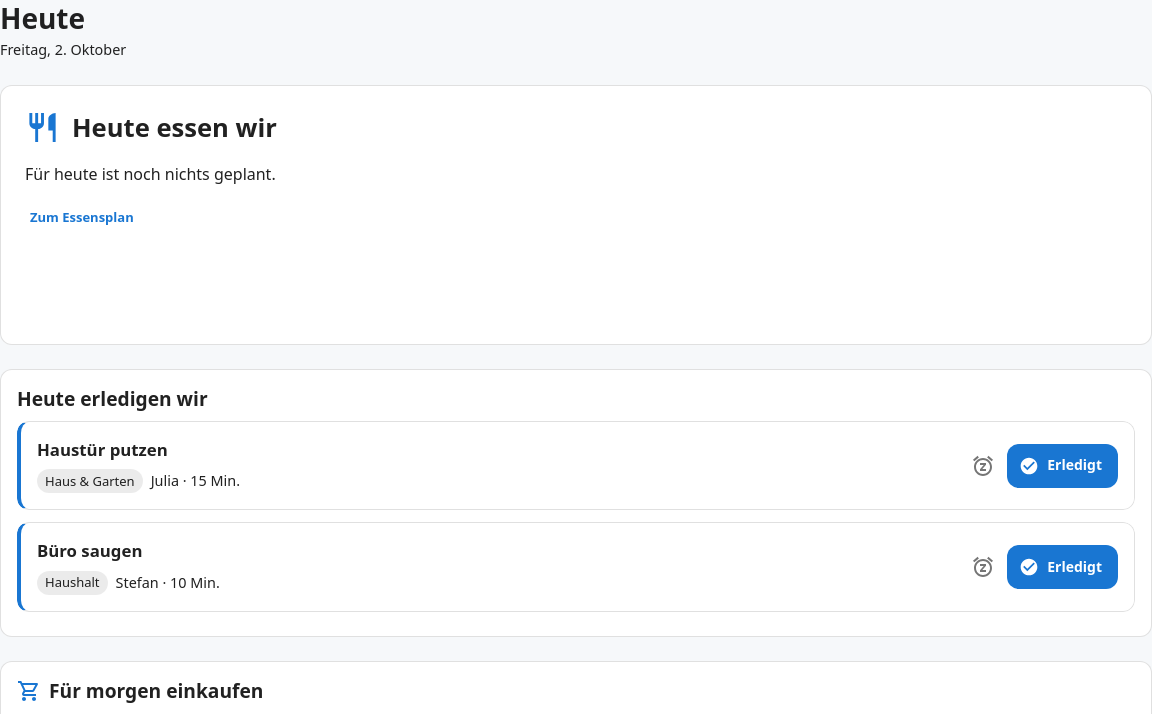
Test: Skip this time › keeps the dialog open and shows the error when skipping fails
Click the button named "„Büro saugen“ verschieben": (983, 567) x1=963 y1=547 x2=1003 y2=587
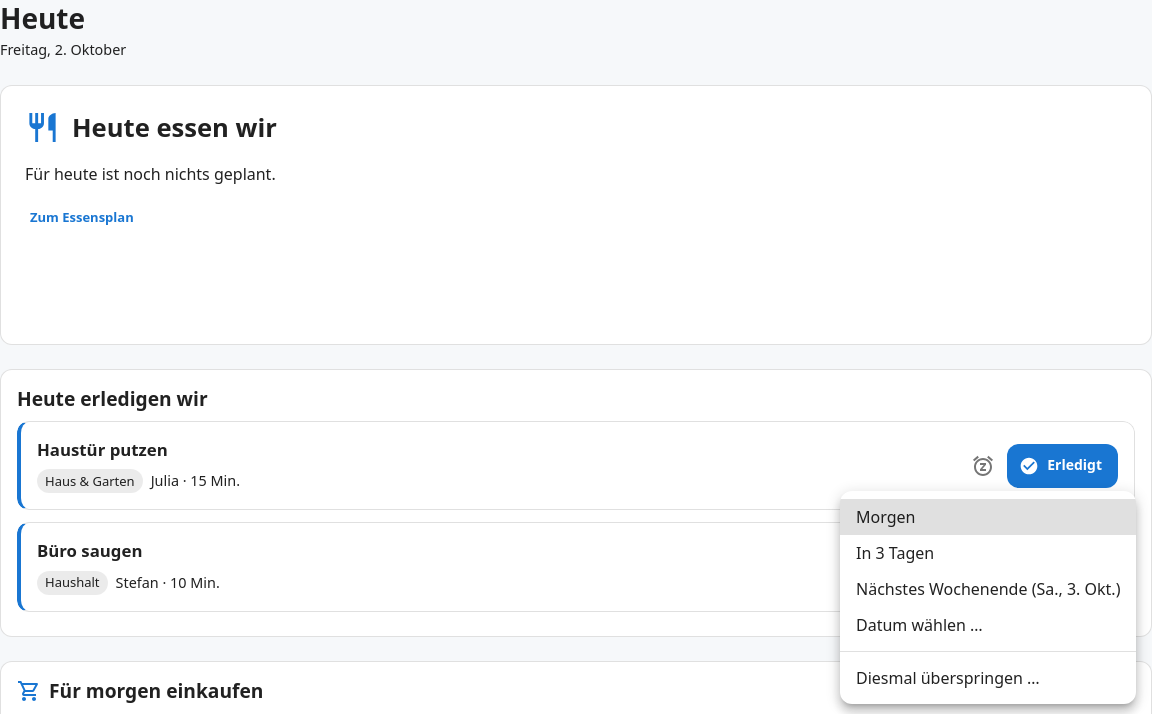
Click the menu item "Diesmal überspringen …": (948, 678) x1=856 y1=667 x2=1040 y2=689
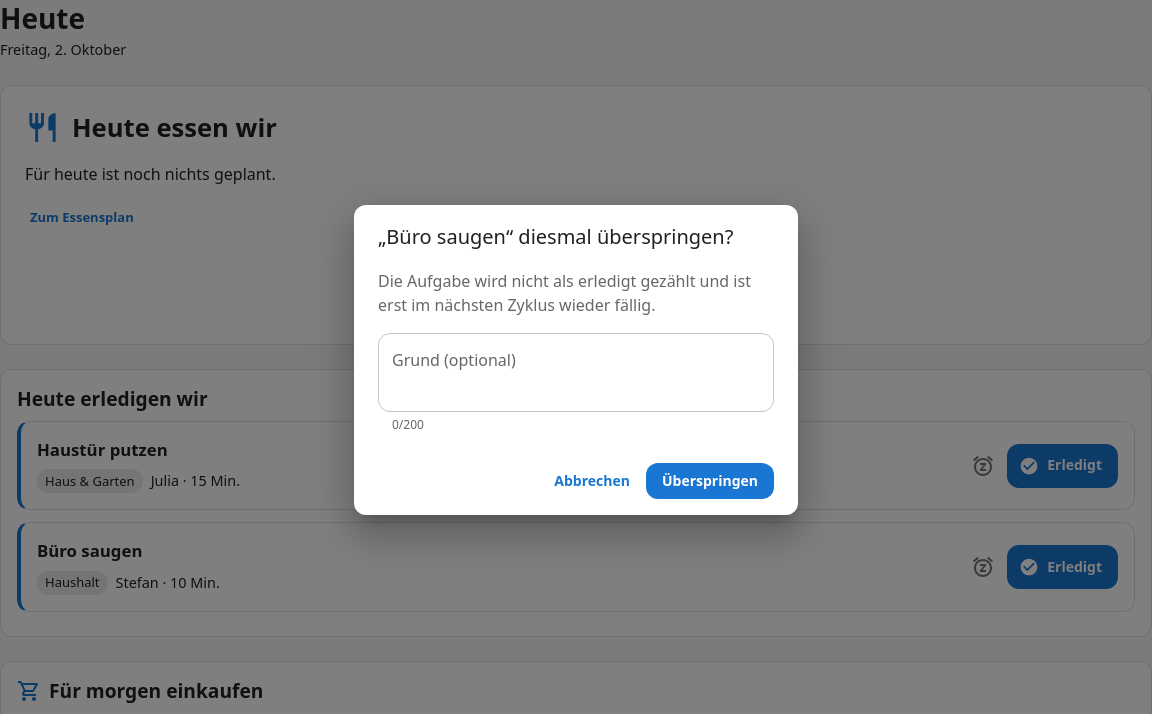
Click the button "Überspringen": (710, 481) x1=646 y1=463 x2=774 y2=499
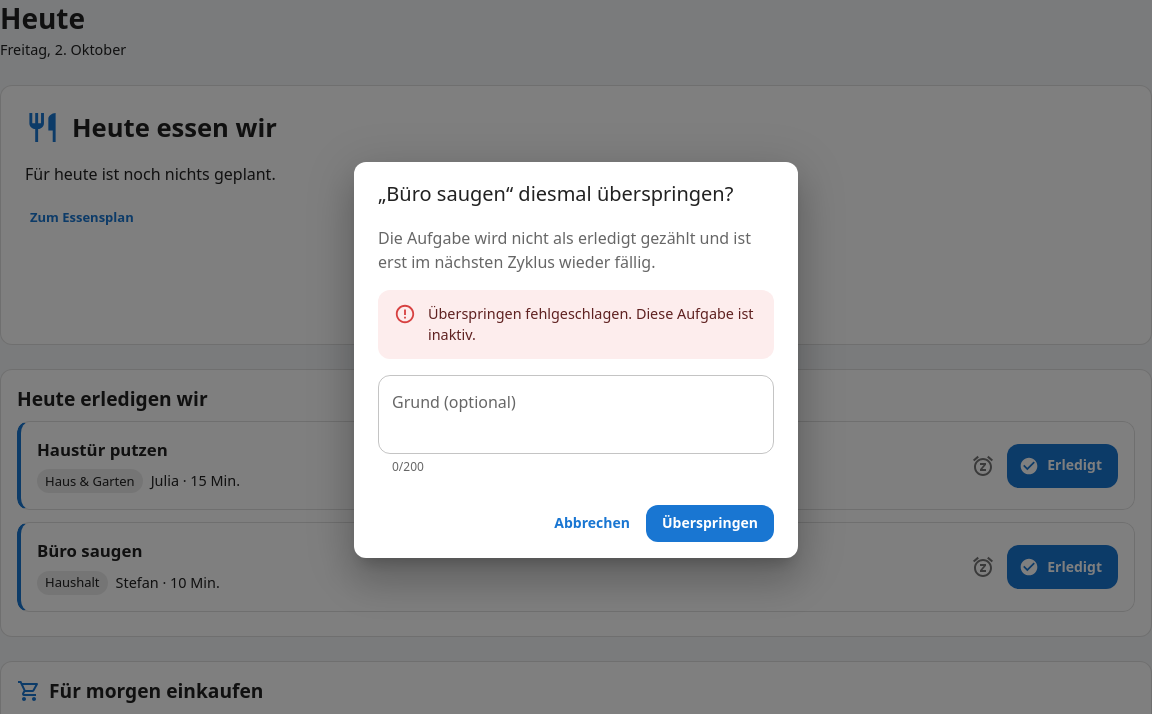
Check: the text "Überspringen fehlgeschlagen. Diese Aufgabe ist inaktiv." is shown, box x1=428 y1=296 x2=758 y2=353
Click the button "Abbrechen": (592, 524) x1=546 y1=505 x2=638 y2=542
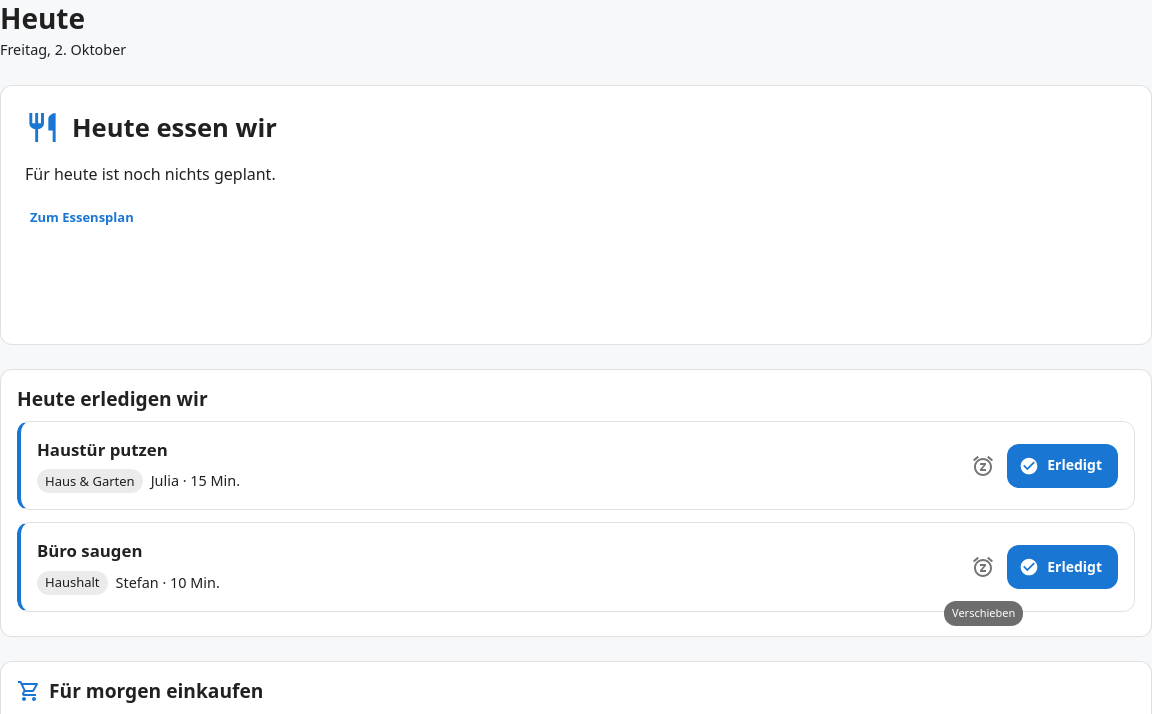
Check: the dialog is gone
